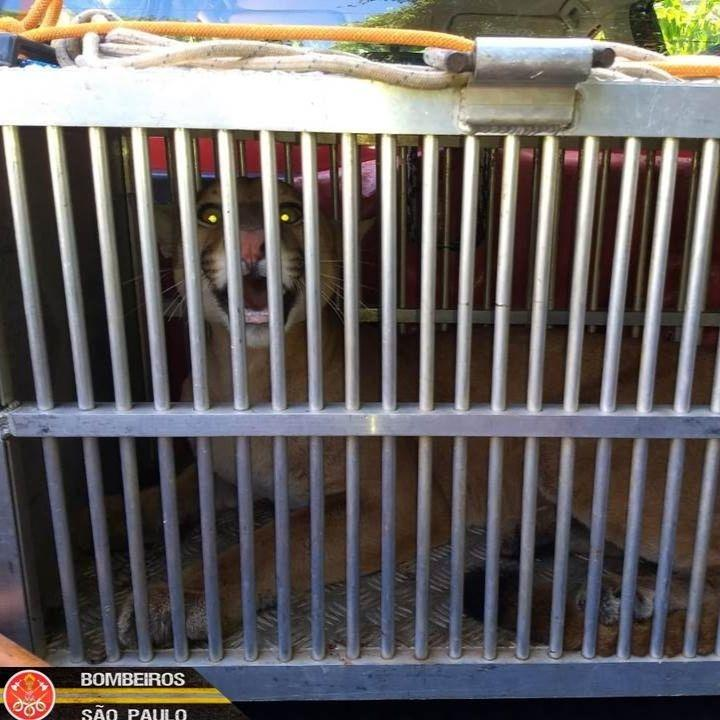OncaParda: (64, 175, 712, 659)
